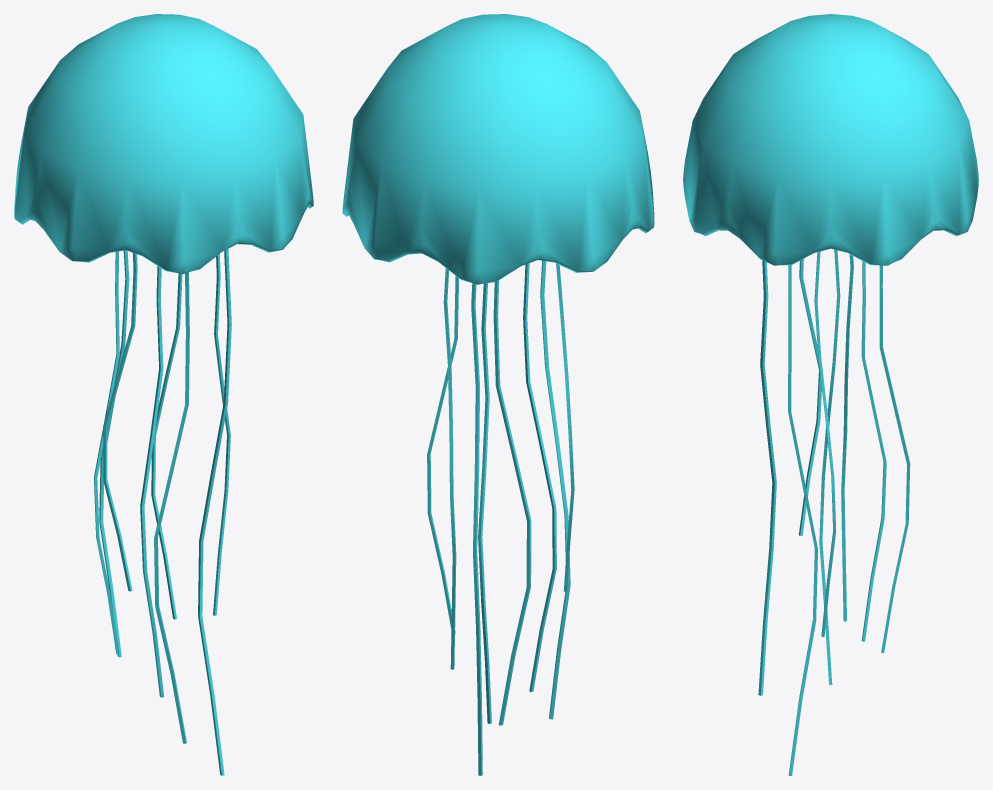
Rendered from jellyfishObj.obj.
3 views of the same model, side by side, from view 1: azimuth 30°, elevation 25°; view 2: azimuth 150°, elevation 25°; view 3: azimuth 270°, elevation 25° (orthographic). The views are drawn at different scales.
Visible parts, largest first — view 1: jellyfish_Sphere; view 2: jellyfish_Sphere; view 3: jellyfish_Sphere.
Part boxes in pixels (x1,y1,x2,y2): jellyfish_Sphere: [14, 14, 313, 775]; jellyfish_Sphere: [342, 14, 654, 775]; jellyfish_Sphere: [683, 14, 978, 775].
Size of the model in its own units: 1.98 by 5.38 by 1.98.
